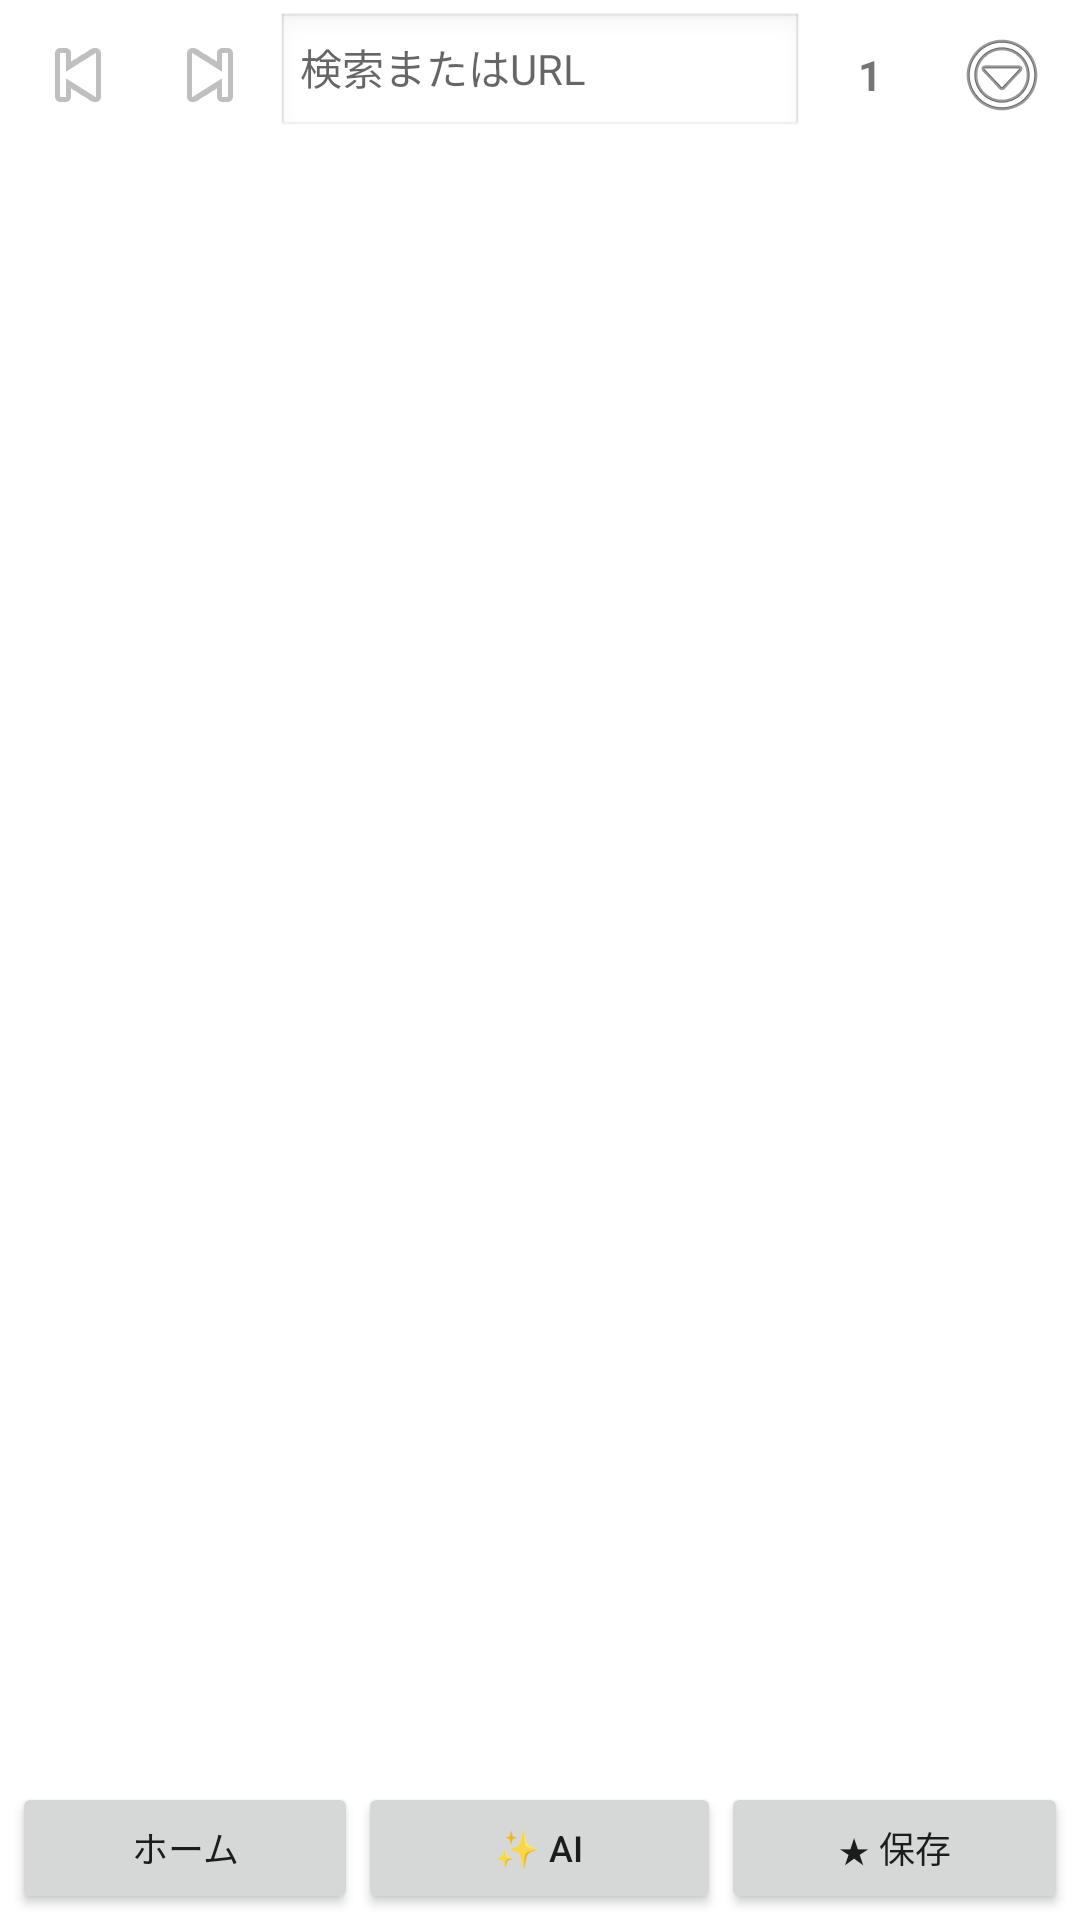

Icon click points for this 1080 x 1920 phone screenshot, format (x=x, y=y):
メニュー: (x=1002, y=75)
戻る: (x=78, y=75)
